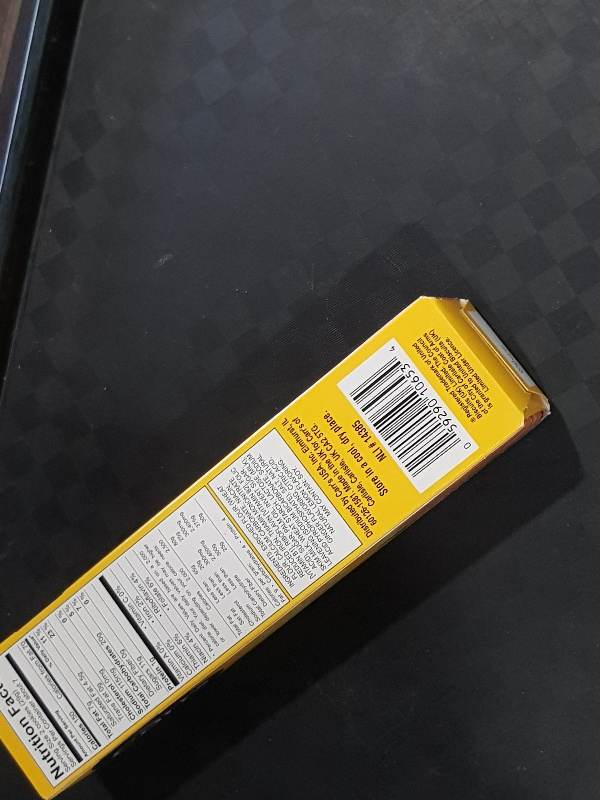Carr's Ginger Lemon Cremes: (1, 295, 550, 800)
